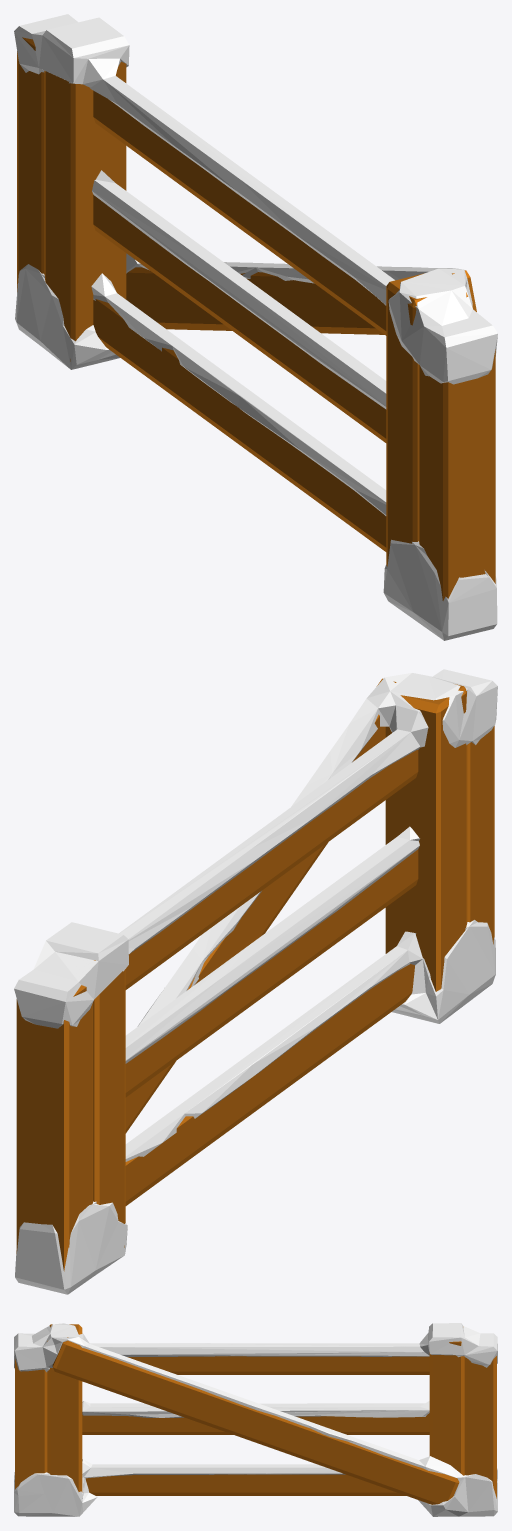
The model's file is WoodDoorWSnow_01.obj.
3 renders of one model, top to bottom at view 1: azimuth 30°, elevation 25°; view 2: azimuth 150°, elevation 25°; view 3: azimuth 270°, elevation 25°, orthographic. The views are drawn at different scales.
Visible parts, largest first — view 1: WoodDoorWSnow_01_Cube.008; view 2: WoodDoorWSnow_01_Cube.008; view 3: WoodDoorWSnow_01_Cube.008.
Part boxes in pixels (box(x1,y1,x2,y2)): WoodDoorWSnow_01_Cube.008: box(14, 14, 497, 640); WoodDoorWSnow_01_Cube.008: box(14, 669, 497, 1294); WoodDoorWSnow_01_Cube.008: box(14, 1323, 497, 1516).
Size of the model in its own units: 0.4539 by 1.87 by 4.53.
